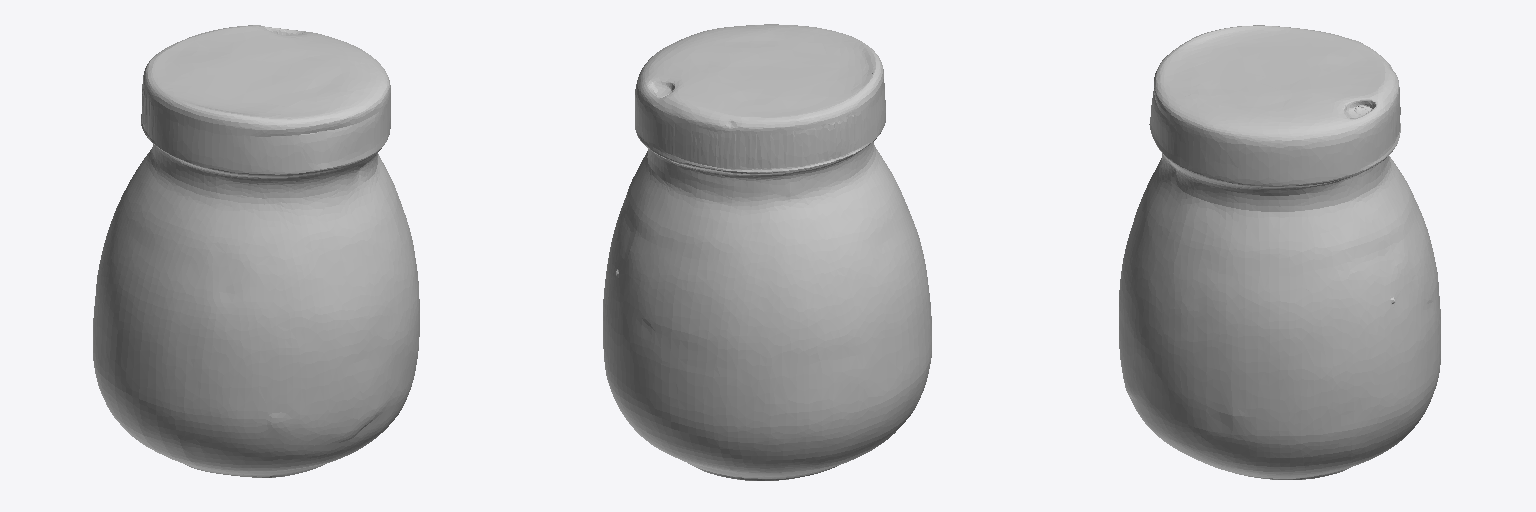
File: 3d-model-1755450196371-fs1k38dkr45.obj
The picture shows the model from 3 angles: view 1: azimuth 30°, elevation 25°; view 2: azimuth 150°, elevation 25°; view 3: azimuth 270°, elevation 25°; orthographic projection.
Parts seen in each view (by area): view 1: obj1; view 2: obj1; view 3: obj1.
Part boxes in pixels (x1,y1,x2,y2): obj1: (93, 25, 419, 477); obj1: (603, 24, 931, 480); obj1: (1119, 25, 1440, 479).
Size of the model in its own units: 0.7864 by 0.9963 by 0.7754.